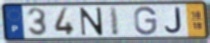3: (27, 7, 49, 38)
4: (53, 7, 76, 37)
G: (133, 6, 159, 37)
I: (108, 6, 121, 37)
J: (163, 7, 184, 35)
N: (79, 7, 105, 37)
